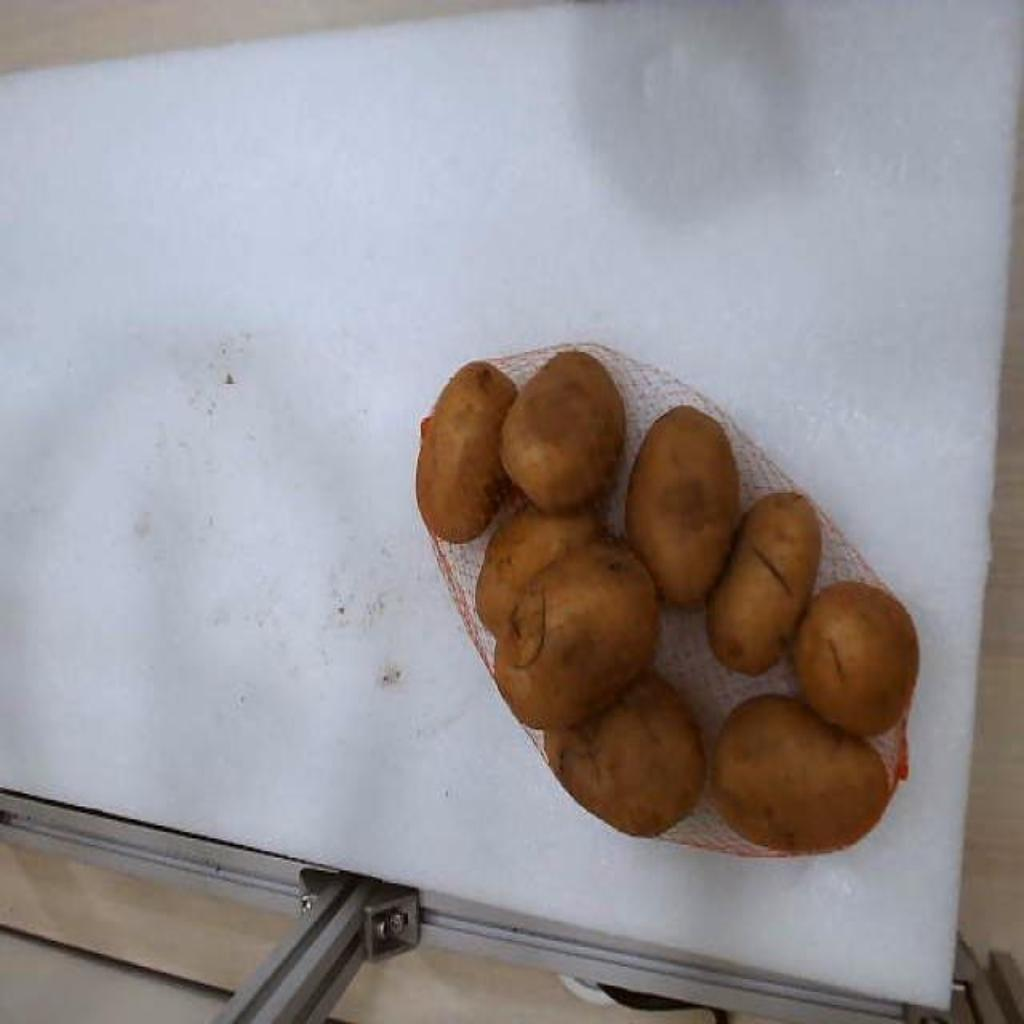potato: (494, 541, 658, 729), (714, 696, 890, 852), (546, 672, 706, 836), (626, 405, 740, 604), (708, 493, 820, 673), (502, 352, 626, 511), (794, 581, 920, 735), (416, 360, 518, 543), (476, 491, 602, 635)
